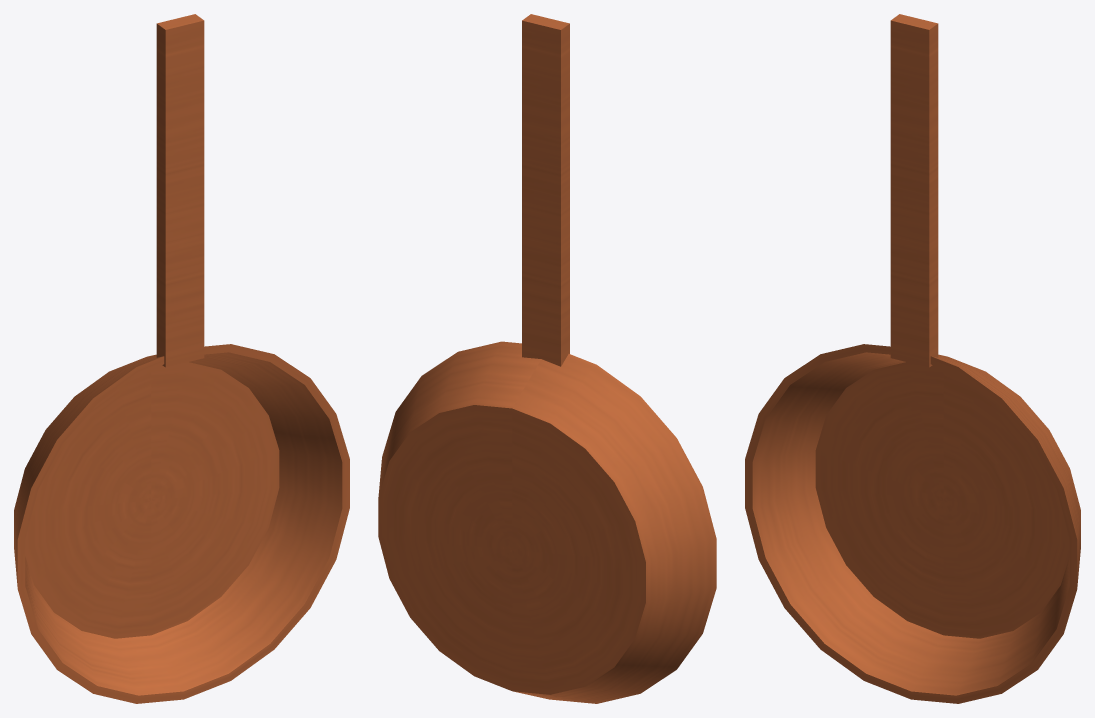
Rendered from SM_Pan_Copper_L.fbx.
3 renders of one model, left to right at view 1: azimuth 30°, elevation 25°; view 2: azimuth 150°, elevation 25°; view 3: azimuth 330°, elevation 25°, orthographic.
Visible parts, largest first — view 1: SM_Pan_Copper_L; view 2: SM_Pan_Copper_L; view 3: SM_Pan_Copper_L.
Part boxes in pixels (x1,y1,x2,y2): SM_Pan_Copper_L: [14, 14, 349, 703]; SM_Pan_Copper_L: [378, 14, 716, 703]; SM_Pan_Copper_L: [745, 14, 1080, 703].
Bounding box in the file's own units: 0.2574 × 0.5 × 0.051.
1 material, 1 textured.
